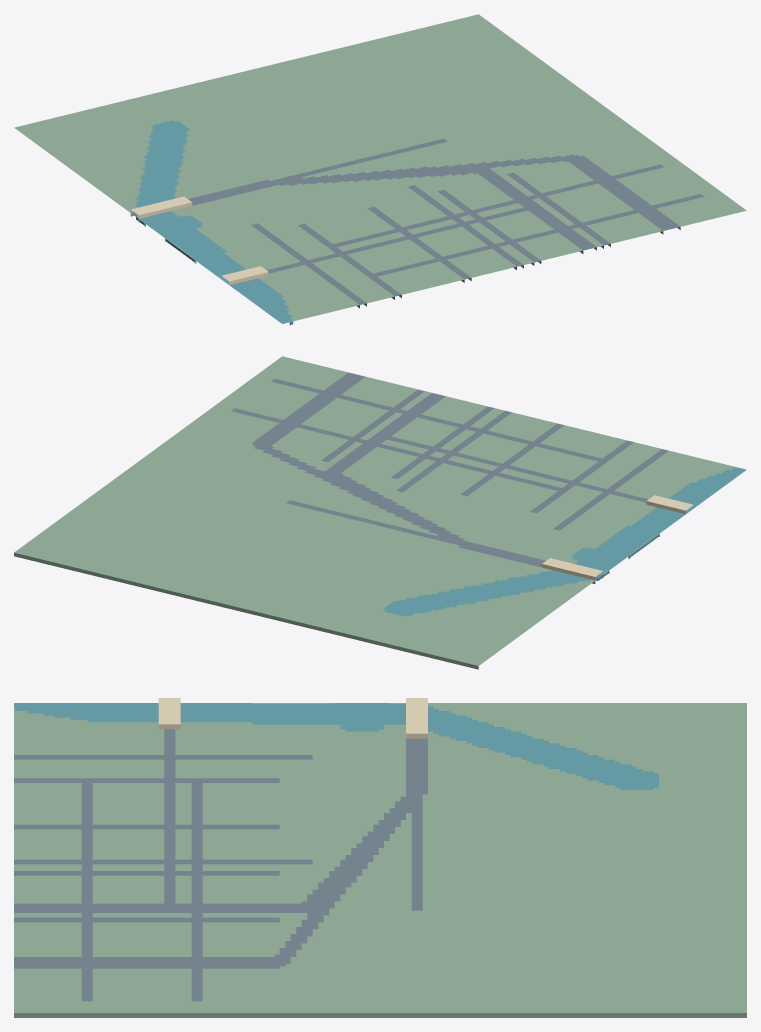
Rendered from sector-se.glb.
3 views of the same model, one above another, from view 1: azimuth 30°, elevation 25°; view 2: azimuth 150°, elevation 25°; view 3: azimuth 270°, elevation 25° (orthographic). The views are drawn at different scales.
Visible parts, largest first — view 1: material_1, material_2, material_3, material_6; view 2: material_1, material_2, material_3, material_6; view 3: material_1, material_2, material_3, material_6.
Boxes of the visible parts, <box> form: material_1: <box>14,14,746,325</box>; material_2: <box>131,138,704,308</box>; material_3: <box>134,120,293,324</box>; material_6: <box>131,196,268,284</box>; material_1: <box>14,356,738,669</box>; material_2: <box>231,372,668,583</box>; material_3: <box>383,467,746,616</box>; material_6: <box>542,495,693,580</box>; material_1: <box>14,703,746,1017</box>; material_2: <box>14,729,427,1001</box>; material_3: <box>14,703,658,789</box>; material_6: <box>158,698,427,738</box>.
Size of the model in its own units: 1333 by 20 by 1333.
